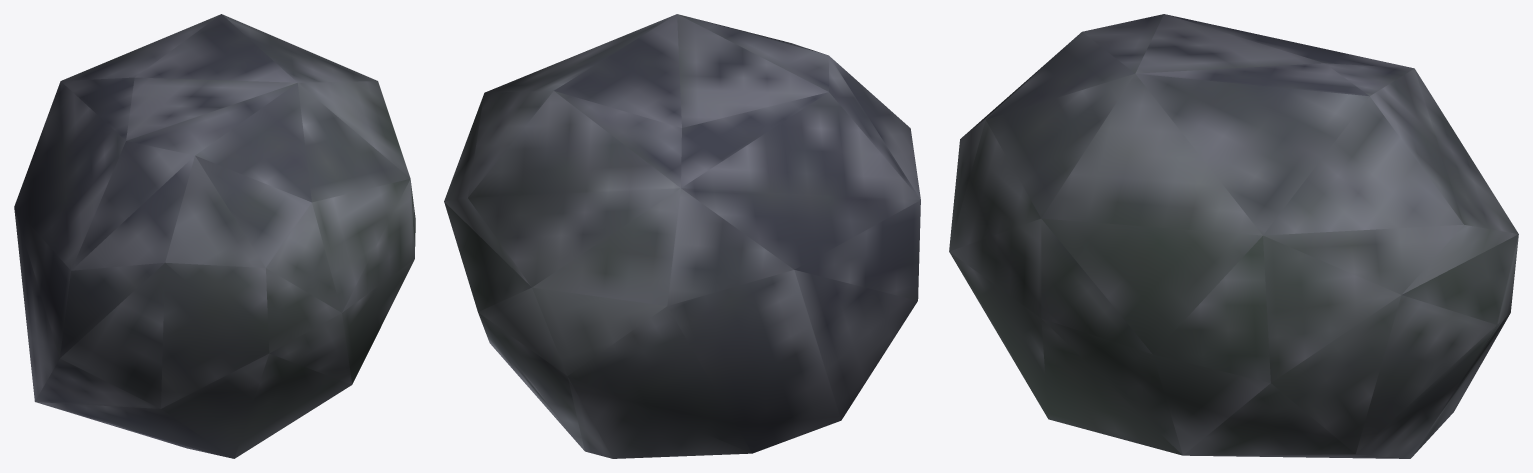
Rendered from Rock_03.fbx.
3 views of the same model, side by side, from view 1: azimuth 30°, elevation 25°; view 2: azimuth 150°, elevation 25°; view 3: azimuth 270°, elevation 25° (orthographic). The views are drawn at different scales.
Visible parts, largest first — view 1: Rock_03; view 2: Rock_03; view 3: Rock_03.
Part boxes in pixels (x1,y1,x2,y2): Rock_03: (14, 14, 415, 458); Rock_03: (444, 14, 920, 458); Rock_03: (949, 14, 1518, 458).
Bounding box in the file's own units: 216 × 192 × 237.
Materials: 1 (1 with a texture image).
